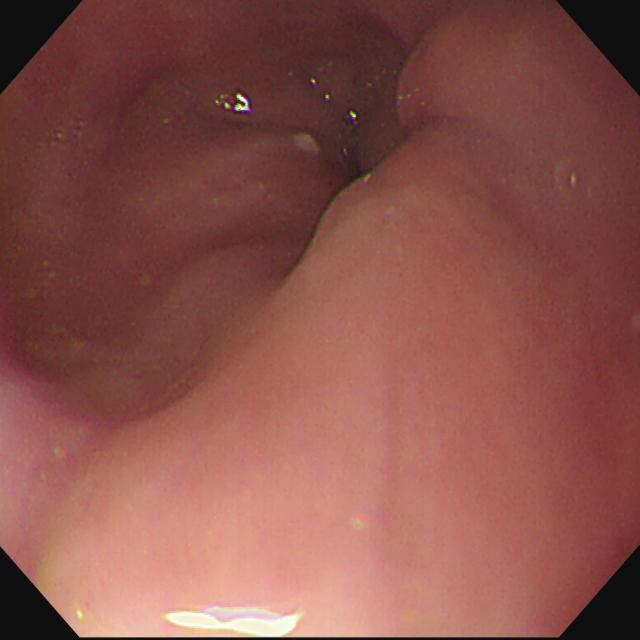J: (295, 133, 321, 156)
U: (164, 606, 303, 640), (216, 94, 253, 115)
